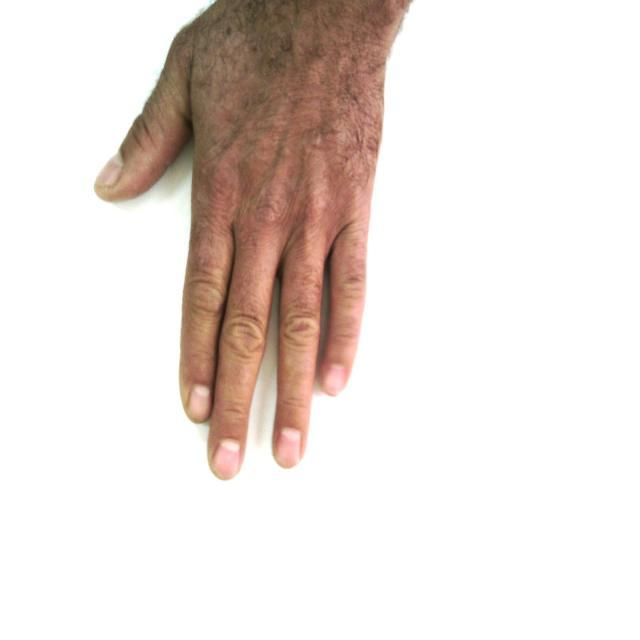Fingernail: (214, 441, 240, 480), (277, 429, 300, 467), (188, 386, 211, 421), (97, 155, 122, 186), (325, 366, 345, 395)
